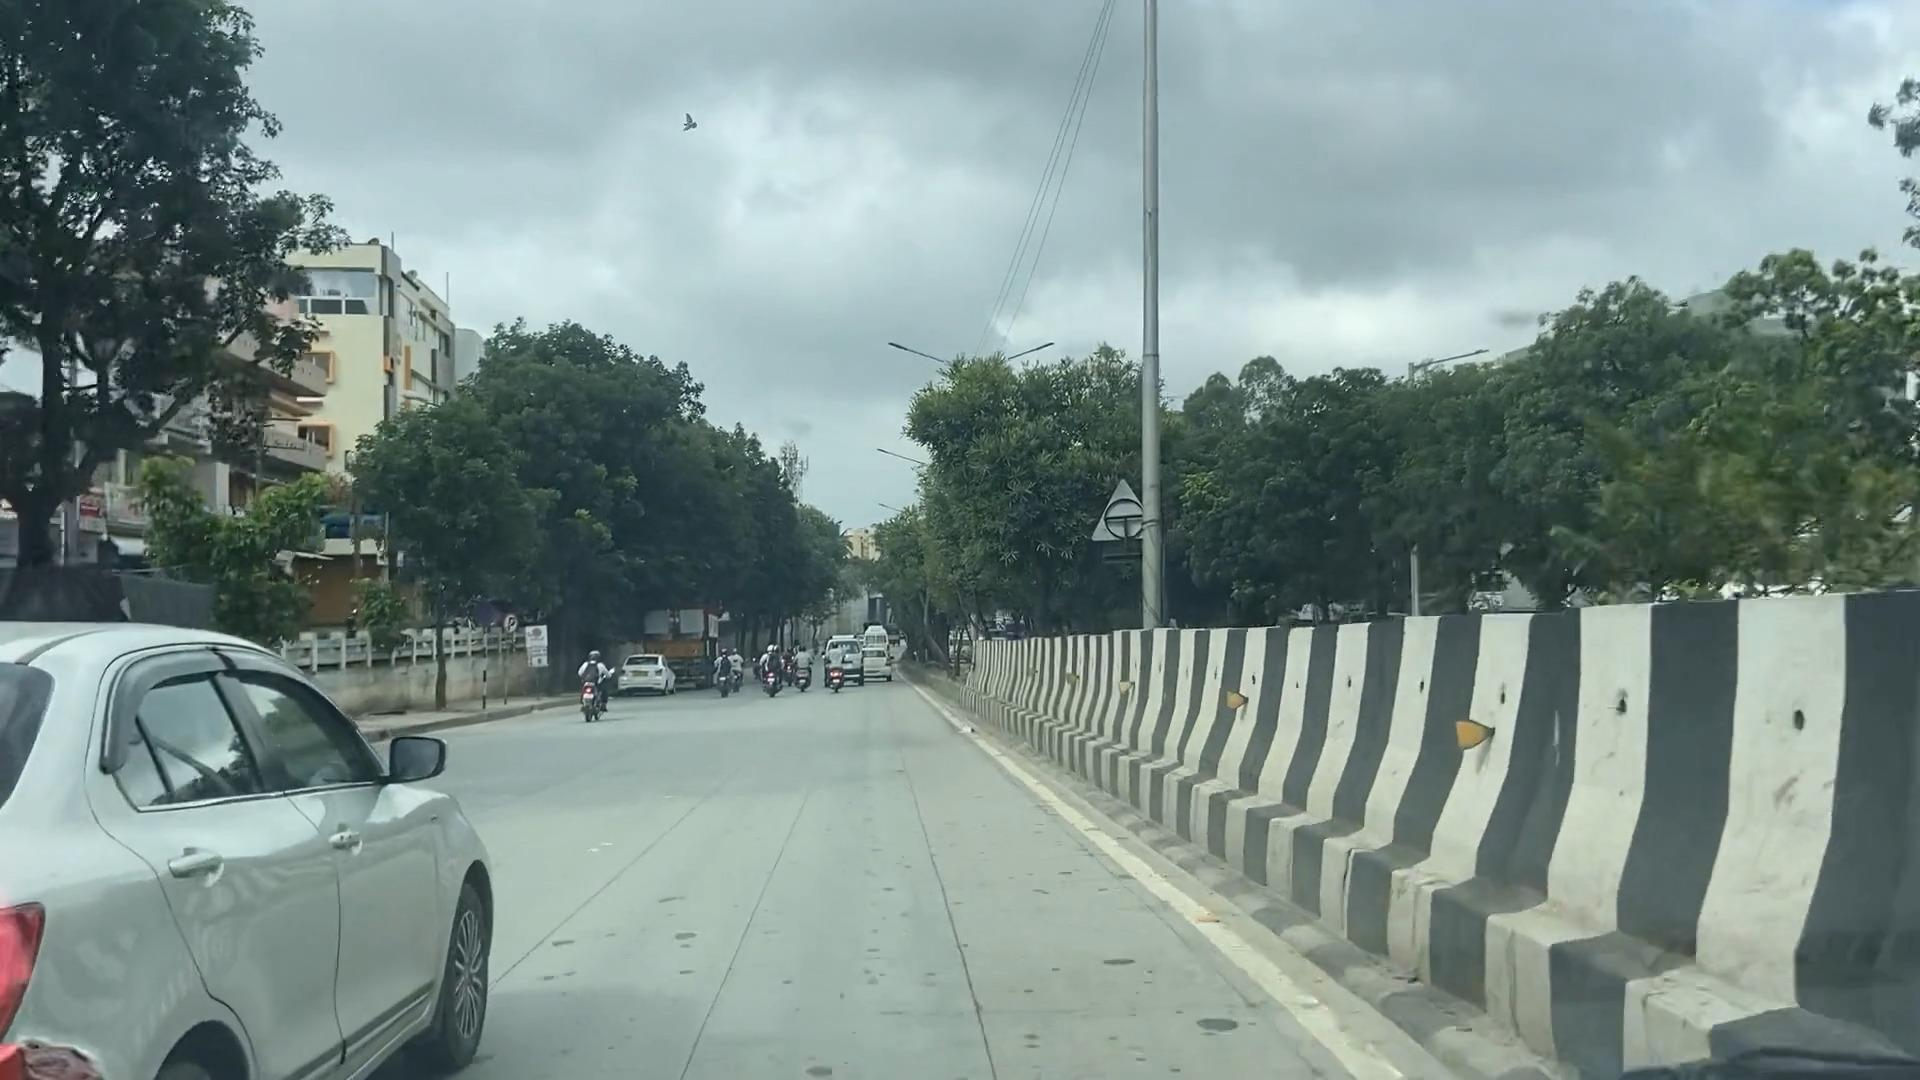LMV: (0, 597, 516, 1080)
